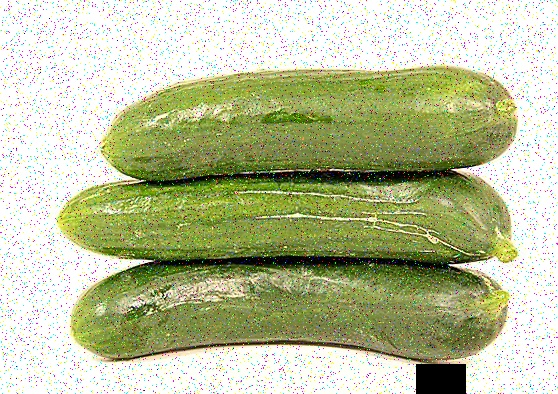cucumber: (105, 57, 518, 179), (71, 266, 513, 363), (54, 172, 509, 260)
